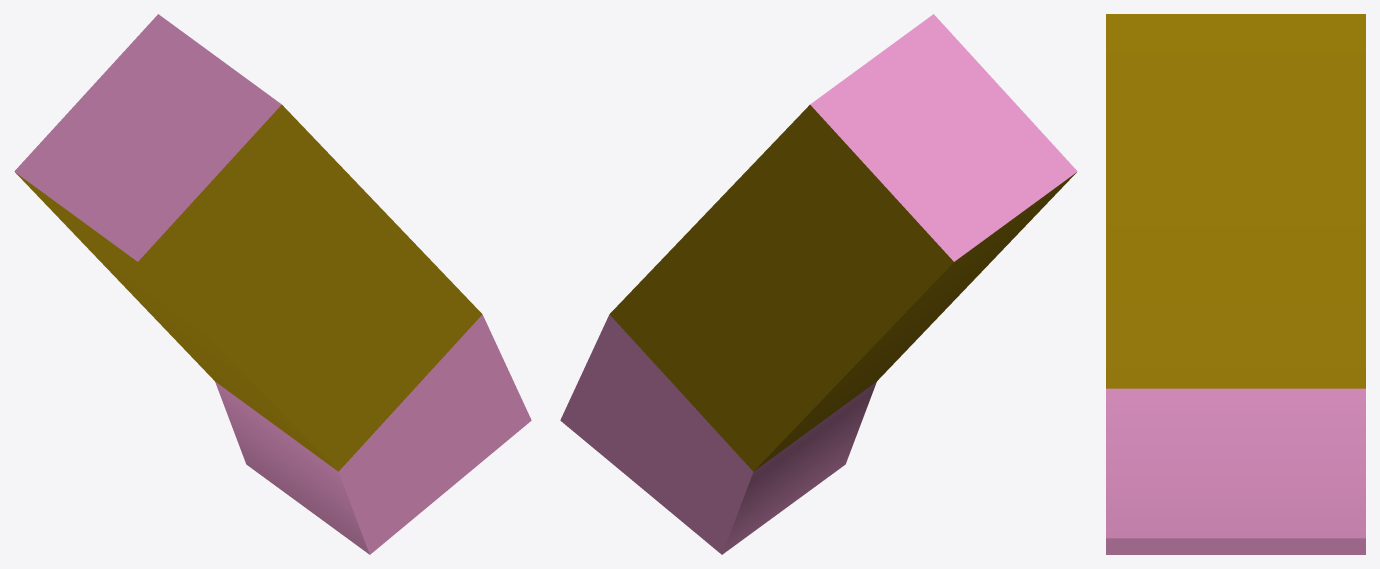
File: arm.fbx
The picture shows the model from 3 angles, left to right: view 1: azimuth 30°, elevation 25°; view 2: azimuth 150°, elevation 25°; view 3: azimuth 270°, elevation 25°; orthographic projection. The views are drawn at different scales.
Visible parts, largest first — view 1: pCube6; view 2: pCube6; view 3: pCube6.
Boxes of the visible parts, x1,y1,x2,y2 form: pCube6: (14,14,531,554); pCube6: (560,14,1077,554); pCube6: (1106,14,1365,554).
Bounding box in the file's own units: 1.84 × 2.11 × 1.
